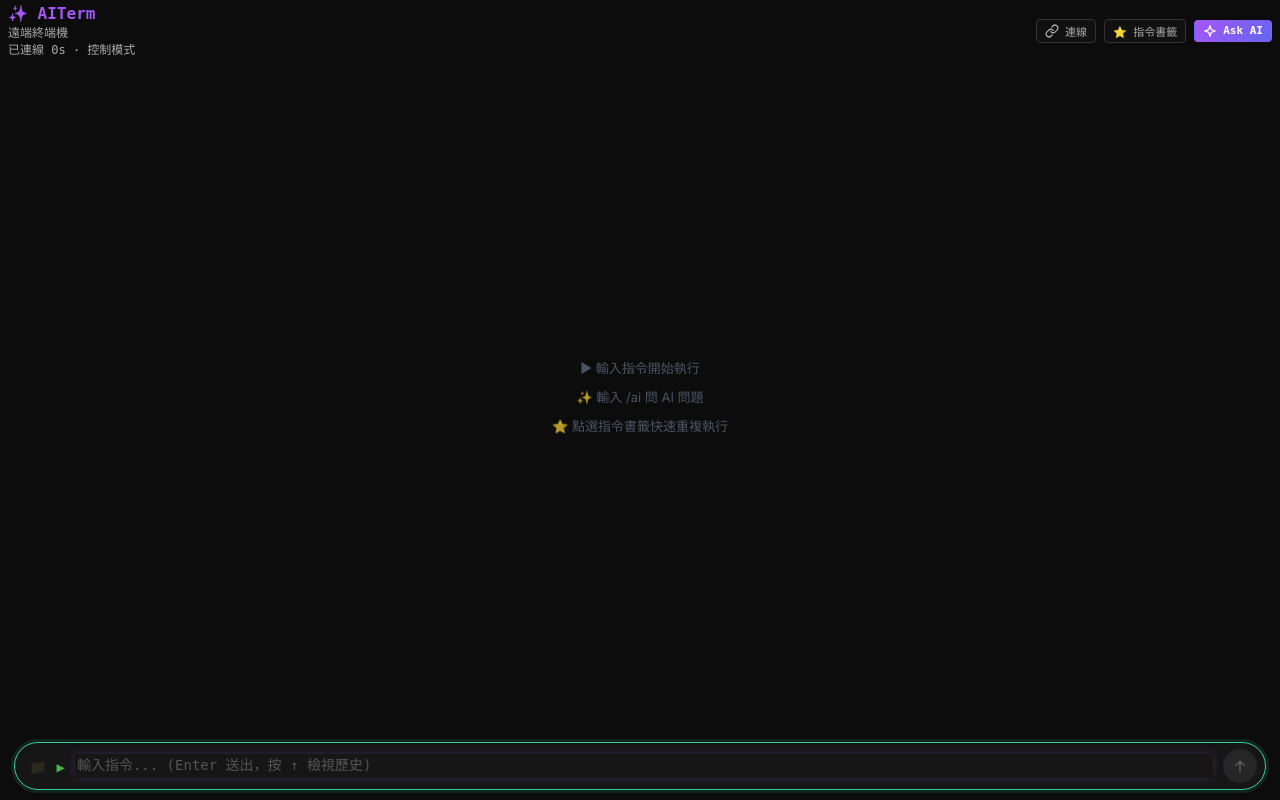
Test: RemoteTerminalView › 指令完成後（renderedLines 就緒）進入卡片列表，且不會因為狀態切換而消失
Type "echo hi" into the text box with placeholder "輸入指令... (Enter 送出，按 ↑ 檢視歷史)" at (644, 766), box [75, 754, 1213, 778]
Then press Enter
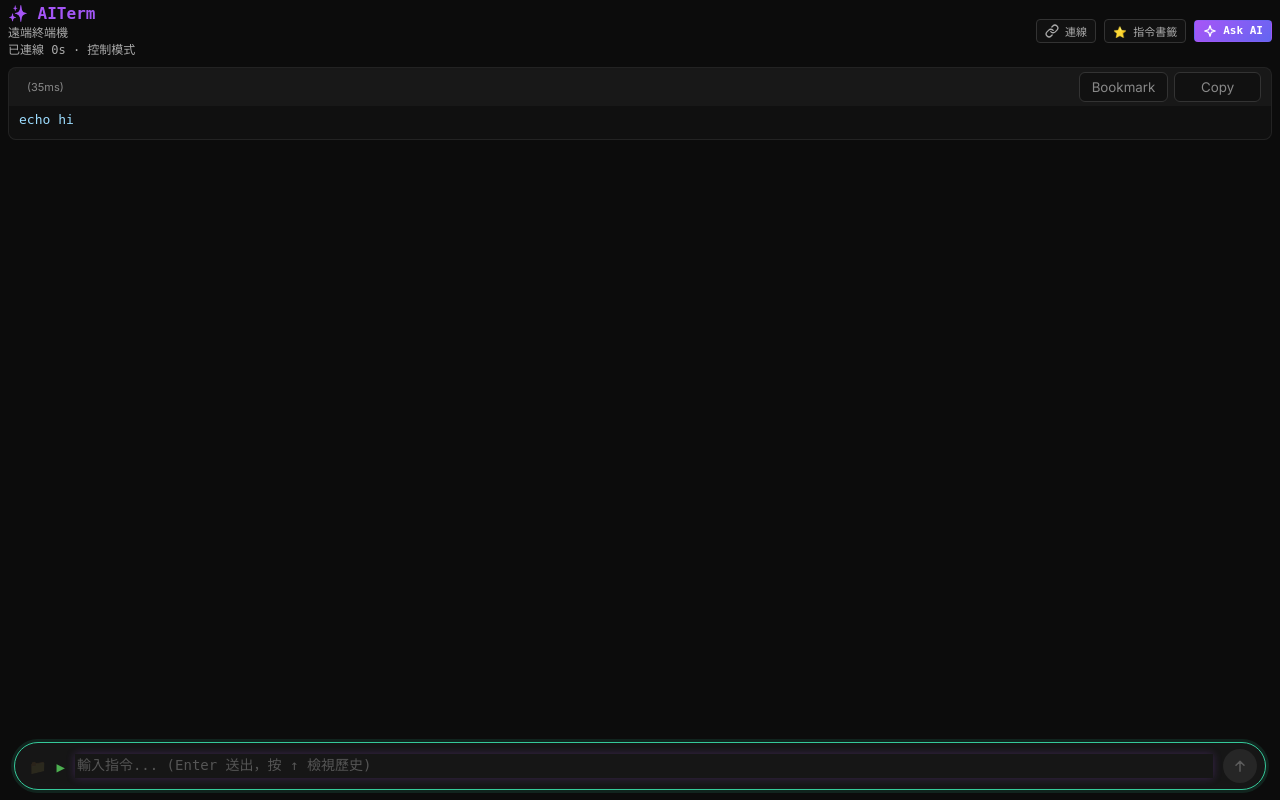
Result: the text "echo hi" is shown at [19, 112, 74, 127]
